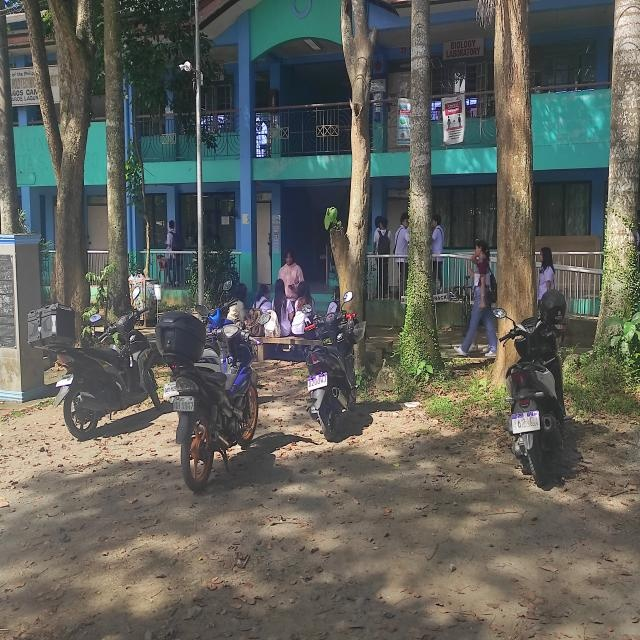Motorcycle: (164, 322, 258, 507), (56, 306, 148, 457), (505, 306, 557, 492), (292, 301, 358, 438)
